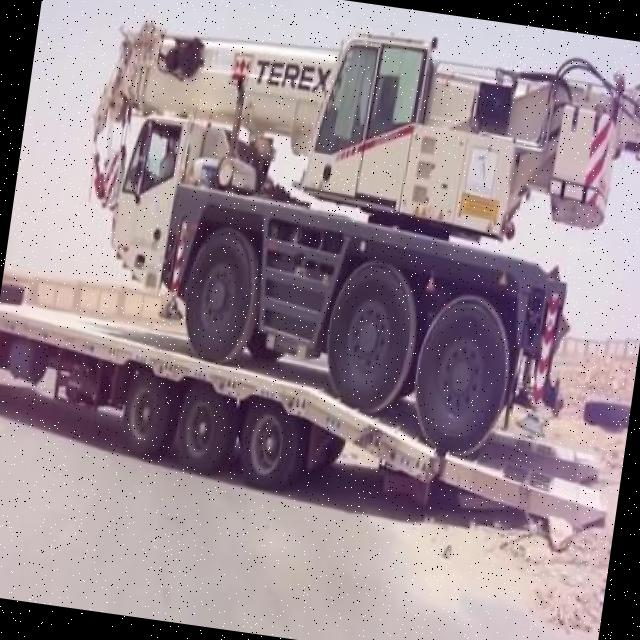Mobile Crane: (56, 0, 640, 478)
